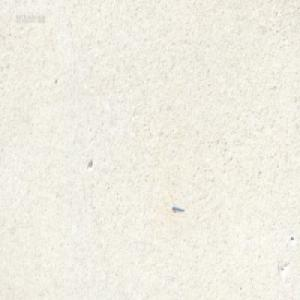Nail: (171, 203, 184, 211)
